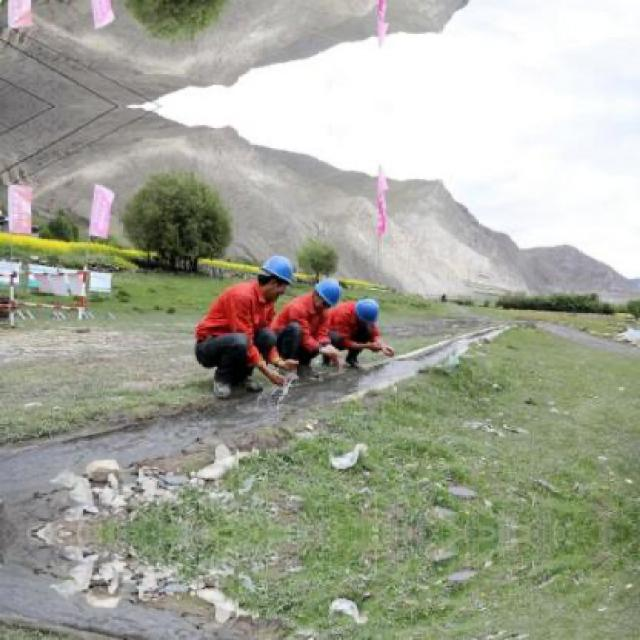helmet: (258, 255, 297, 299), (310, 274, 348, 312), (354, 298, 386, 327)
